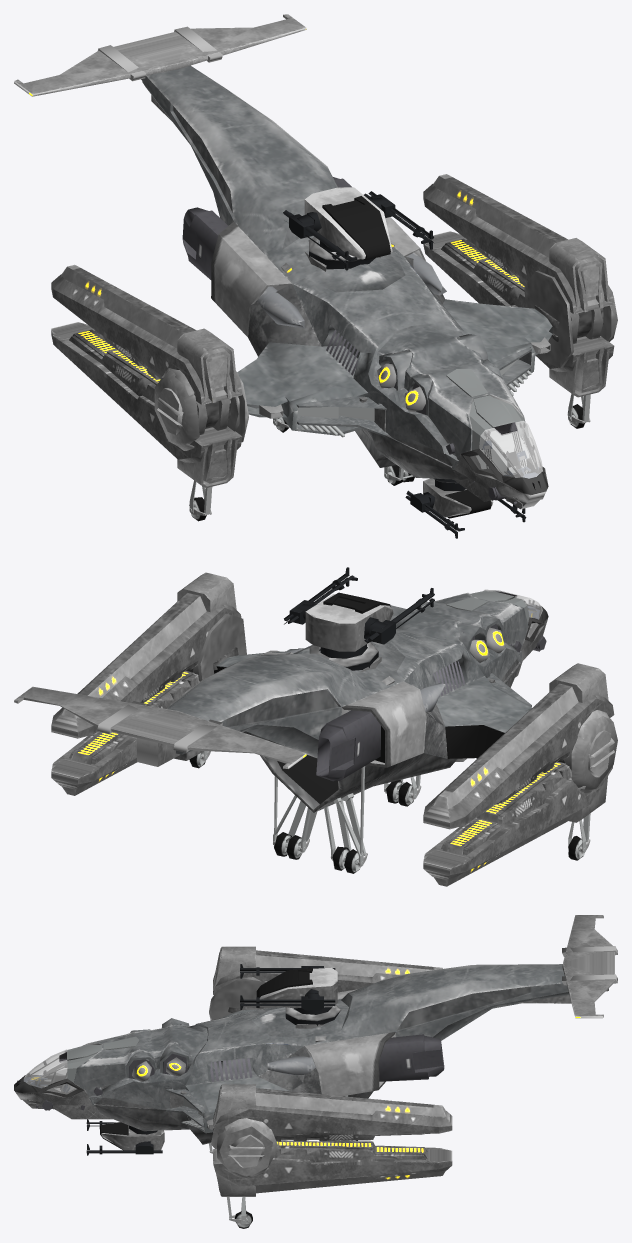
The model's file is hero4.glb.
3 views of the same model, one above another, from view 1: azimuth 30°, elevation 25°; view 2: azimuth 150°, elevation 25°; view 3: azimuth 270°, elevation 25° (orthographic). The views are drawn at different scales.
Parts seen in each view (by area): view 1: Object_3, Object_5, Object_2; view 2: Object_3, Object_2; view 3: Object_3, Object_5, Object_2.
Boxes of the visible parts, x1,y1,x2,y2 form: Object_3: (14,14,617,538); Object_5: (470,420,542,478); Object_2: (189,353,583,515); Object_3: (14,567,617,886); Object_2: (200,592,590,866); Object_3: (14,915,617,1228); Object_5: (23,1049,76,1094); Object_2: (34,1024,351,1224).
Size of the model in its own units: 6.02 by 3.37 by 9.47.
Materials: 2 (2 with a texture image).
